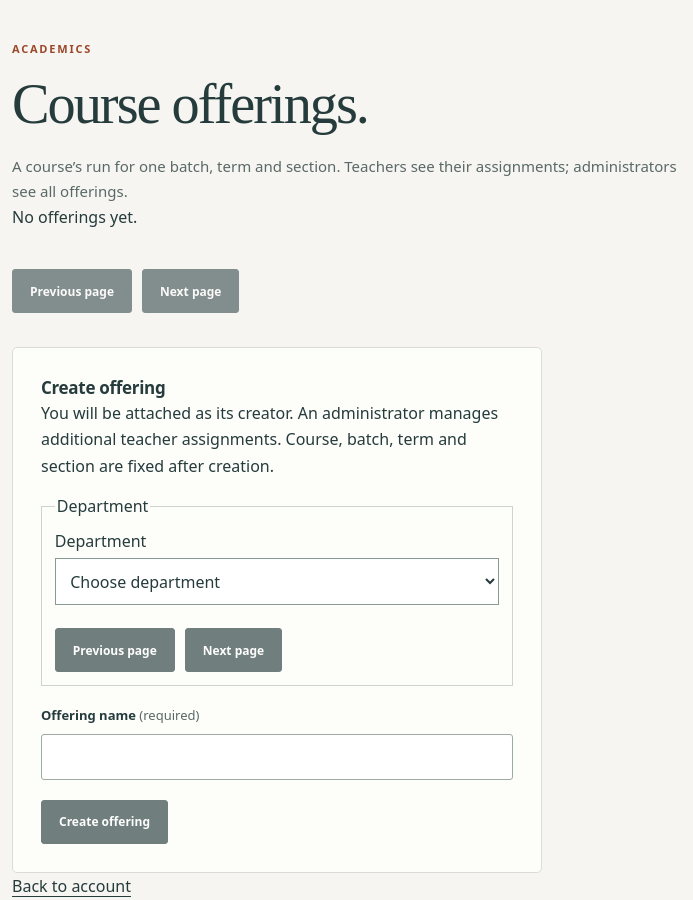
clears dependent choices when the department changes
Select "D1 — First" in the dropdown labelled "Department" at (277,582), box left=55, top=558, right=499, bottom=605
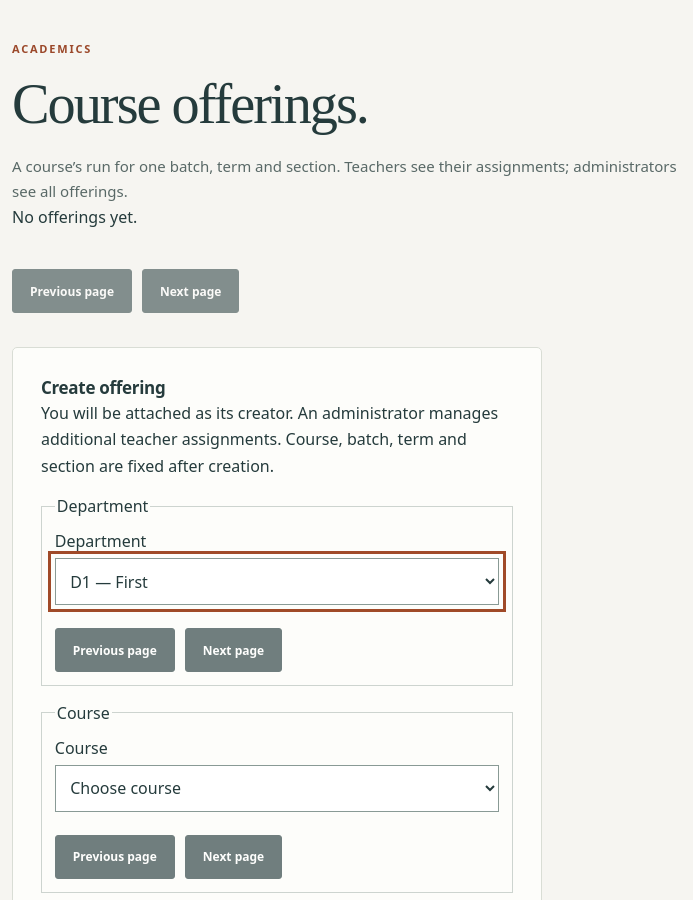
Select "CS101 — Course" in the dropdown labelled "Course" at (277,788), box left=55, top=765, right=499, bottom=812
(page scrolled)
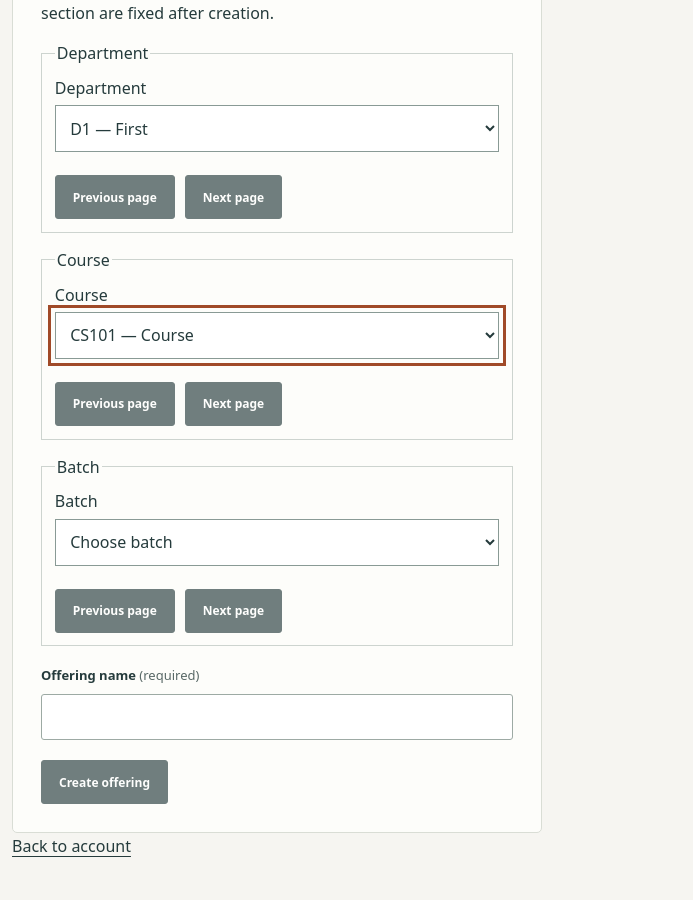
Select "2026 — Batch" in the dropdown labelled "Batch" at (277,542), box left=55, top=519, right=499, bottom=566
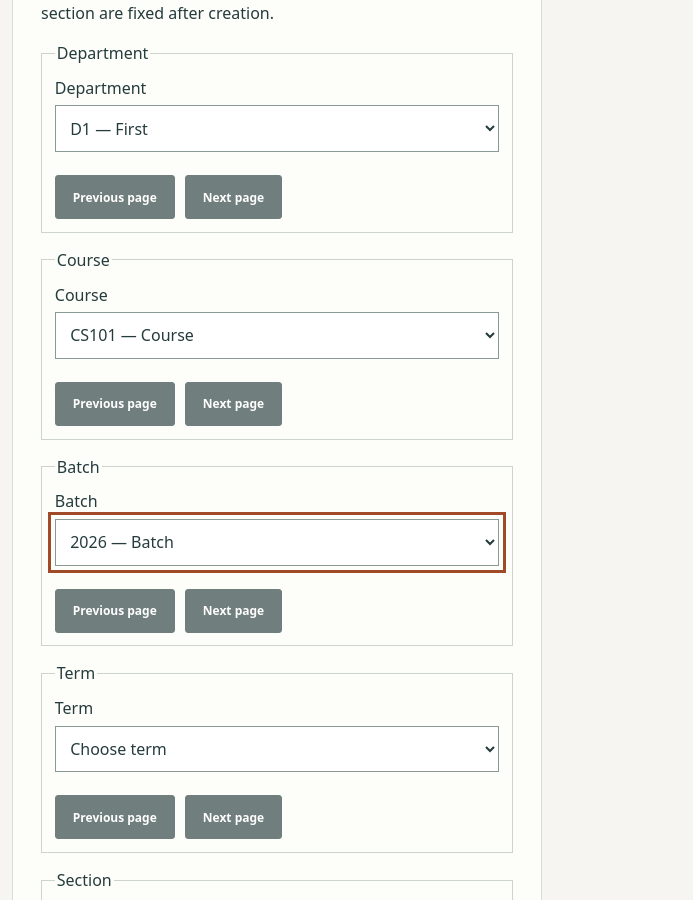
Now the dropdown labelled "Term" is shown, box left=55, top=726, right=499, bottom=772
Select "D2 — Second" in the dropdown labelled "Department" at (277,129), box left=55, top=105, right=499, bottom=152
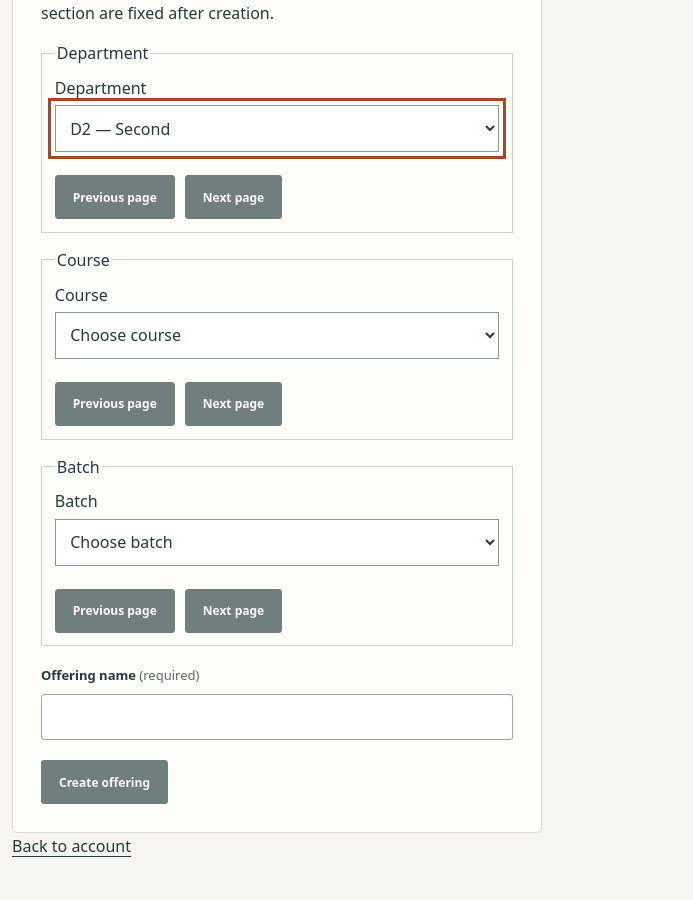
Expected: the dropdown labelled "Term" is not shown
Now the dropdown labelled "Course" shows "Choose course", box left=55, top=312, right=499, bottom=359
